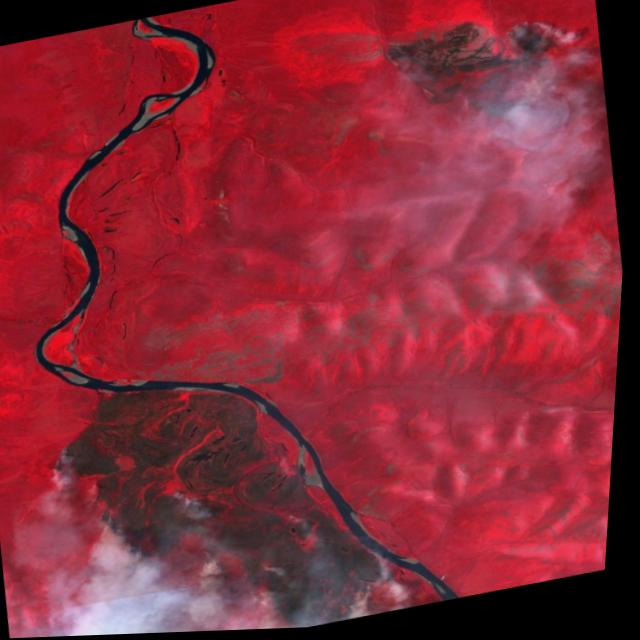fire: (46, 384, 421, 638), (371, 5, 574, 147)
